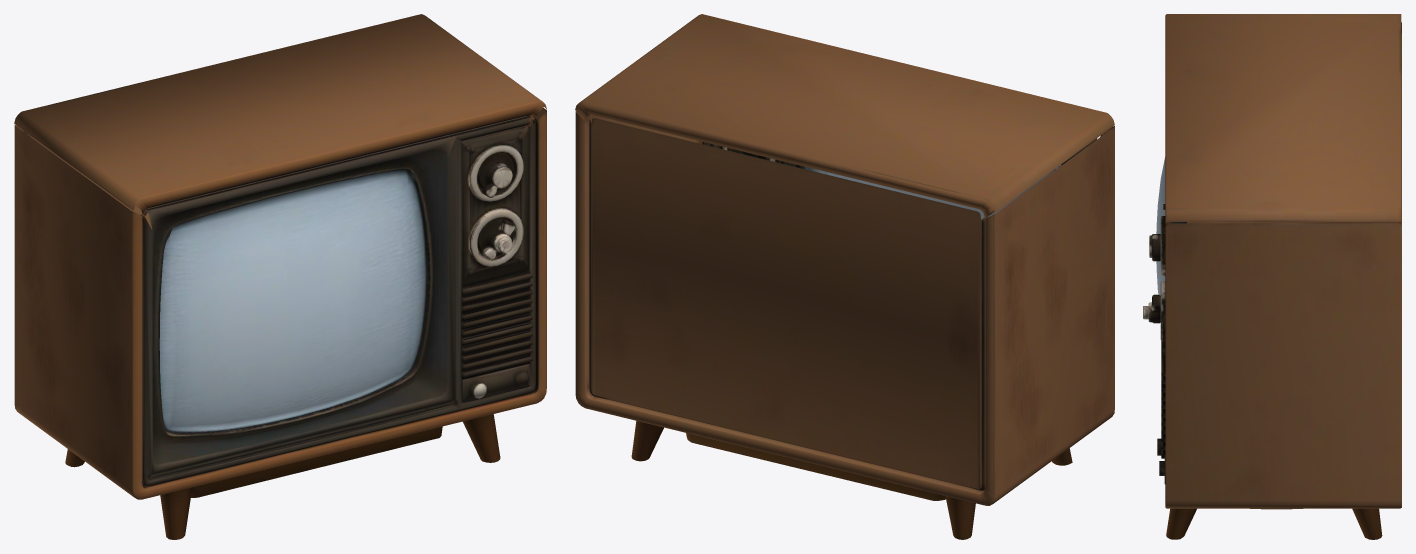
The model's file is crt_television_realistic_style_568f1725_v3.glb.
The picture shows the model from 3 angles, left to right: view 1: azimuth 30°, elevation 25°; view 2: azimuth 150°, elevation 25°; view 3: azimuth 270°, elevation 25°; orthographic projection.
Parts seen in each view (by area): view 1: mesh_input; view 2: mesh_input; view 3: mesh_input.
Boxes of the visible parts, x1,y1,x2,y2 form: mesh_input: [14, 14, 546, 539]; mesh_input: [575, 14, 1114, 539]; mesh_input: [1143, 14, 1401, 539].
Bounding box in the file's own units: 1.9 × 1.54 × 1.03.
Materials: 1 (1 with a texture image).
